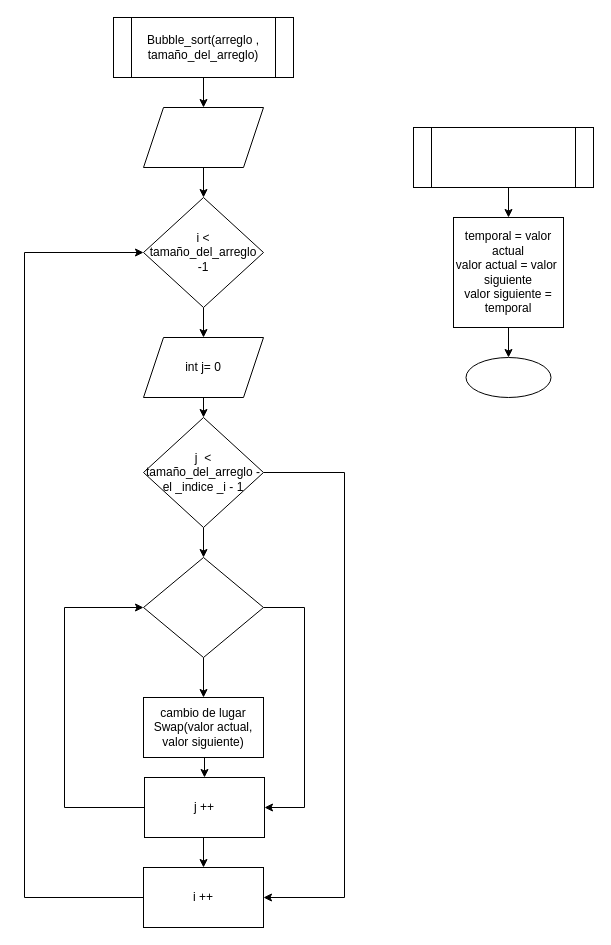
Image size: 611x945. Some labels were removed from this diagram. Here are the shapes that lost their labels. From the top down, the box of each, then its label:
(142, 106, 264, 168): int i = 0
(412, 126, 594, 188): Swap(valor_actual), valor_siguin
(465, 356, 551, 398): fin
(142, 556, 264, 658): valor en j > valor en j + 1
